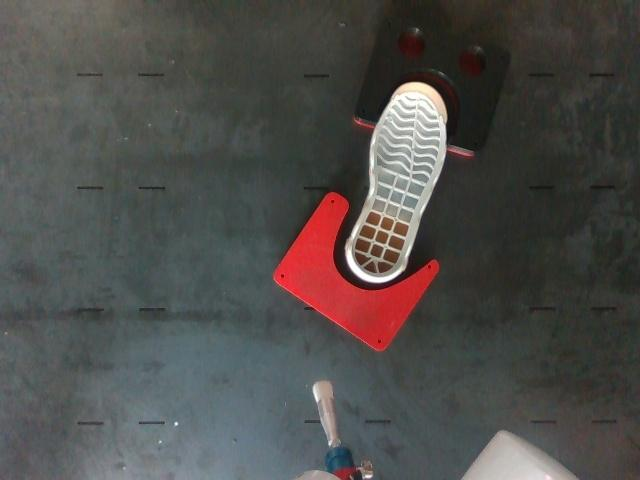shoes: (352, 84, 446, 277)
